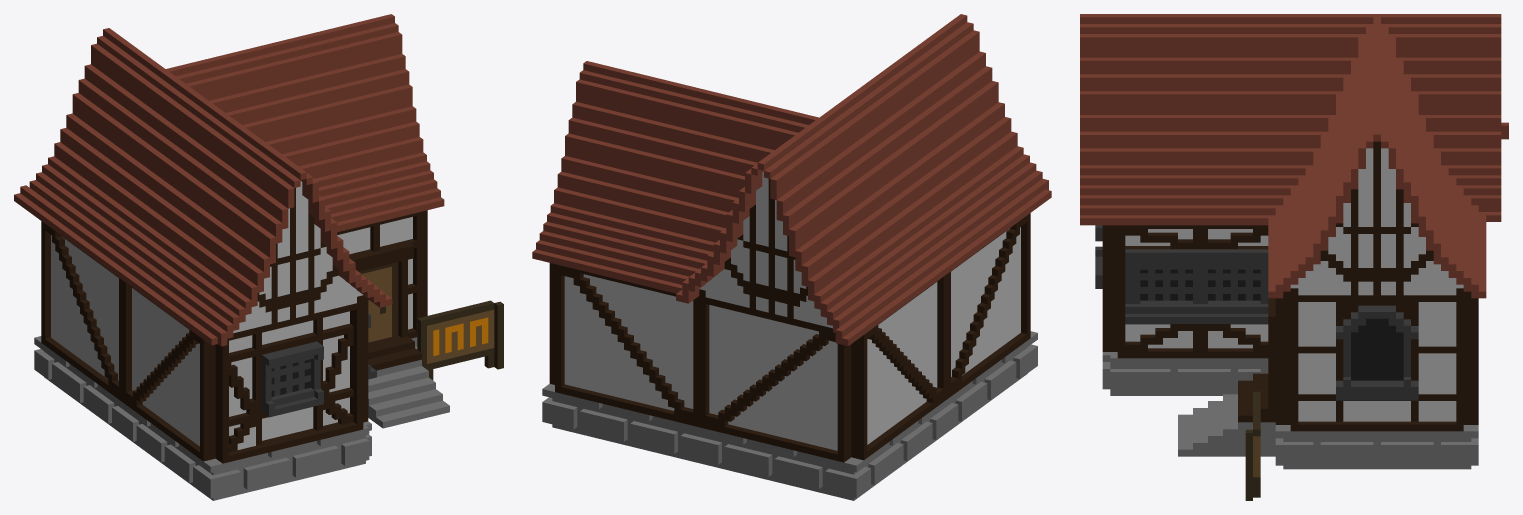
Rendered from Inn.fbx.
The picture shows the model from 3 angles, left to right: view 1: azimuth 30°, elevation 25°; view 2: azimuth 150°, elevation 25°; view 3: azimuth 270°, elevation 25°; orthographic projection. The views are drawn at different scales.
Visible parts, largest first — view 1: Inn; view 2: Inn; view 3: Inn.
Boxes of the visible parts, x1,y1,x2,y2 form: Inn: (14,14,503,500); Inn: (532,14,1051,500); Inn: (1080,14,1508,500).
Size of the model in its own units: 600 by 500 by 570.
